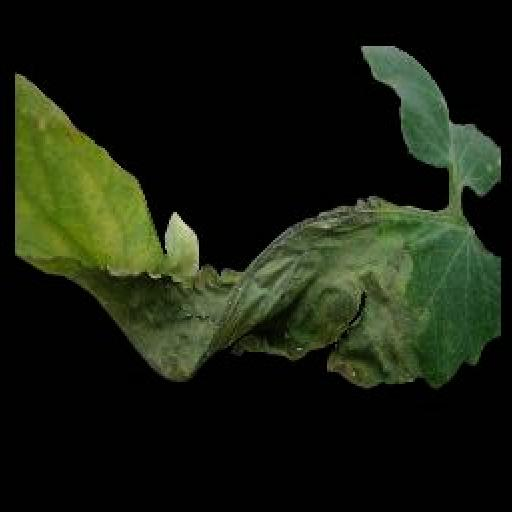disease_tomato: (16, 50, 504, 394)
